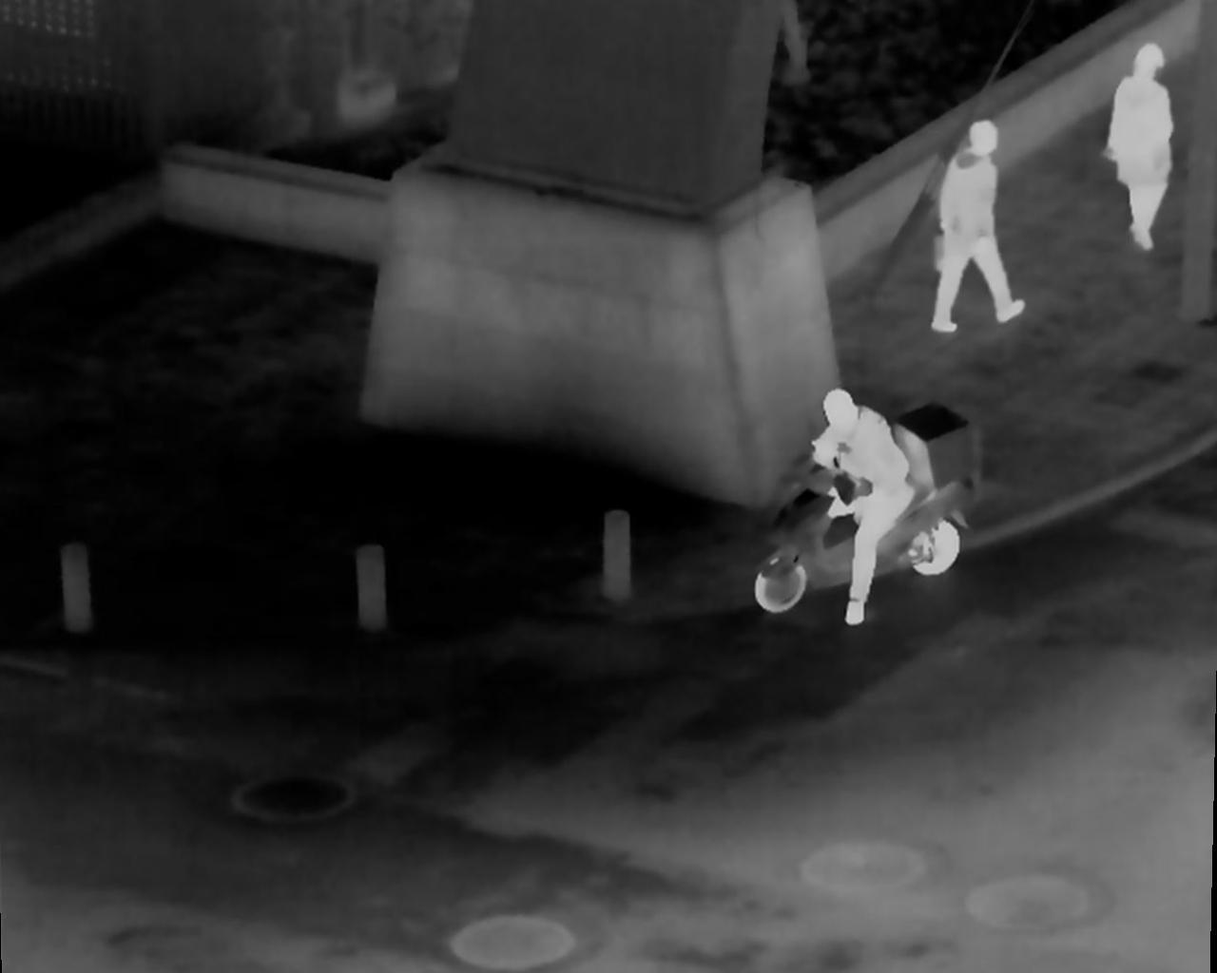person: (807, 385, 914, 630), (926, 126, 1023, 345), (1098, 37, 1194, 257)
